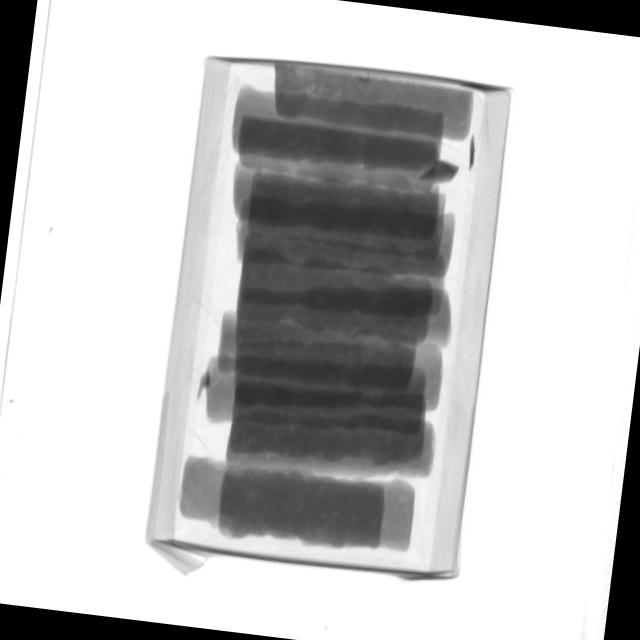ym: (418, 157, 462, 185), (196, 367, 212, 402), (465, 133, 478, 173)
